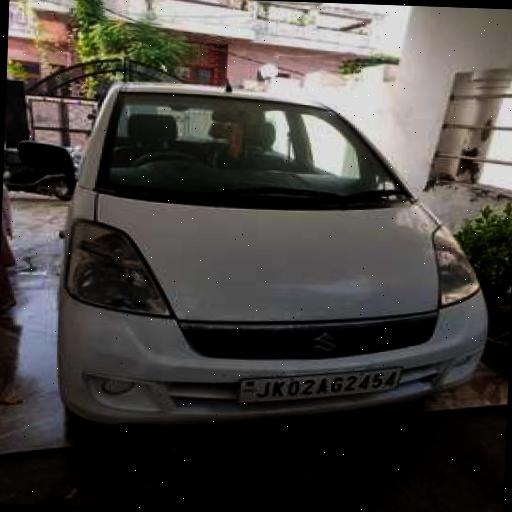license_plate`: (236, 358, 397, 406)
